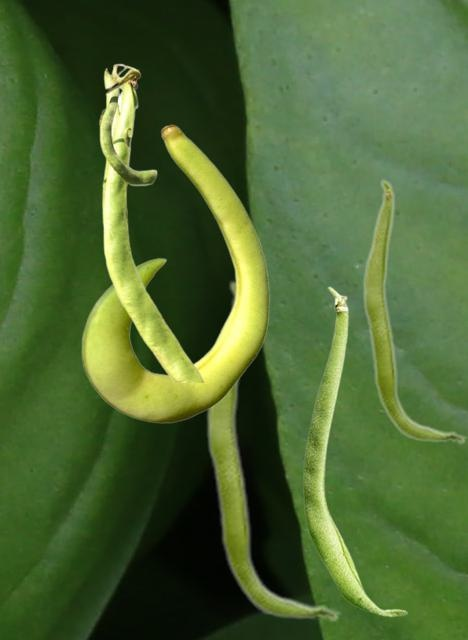french_bean: (81, 124, 269, 422), (204, 279, 340, 622), (303, 286, 407, 616), (98, 63, 203, 381), (361, 178, 466, 444)
